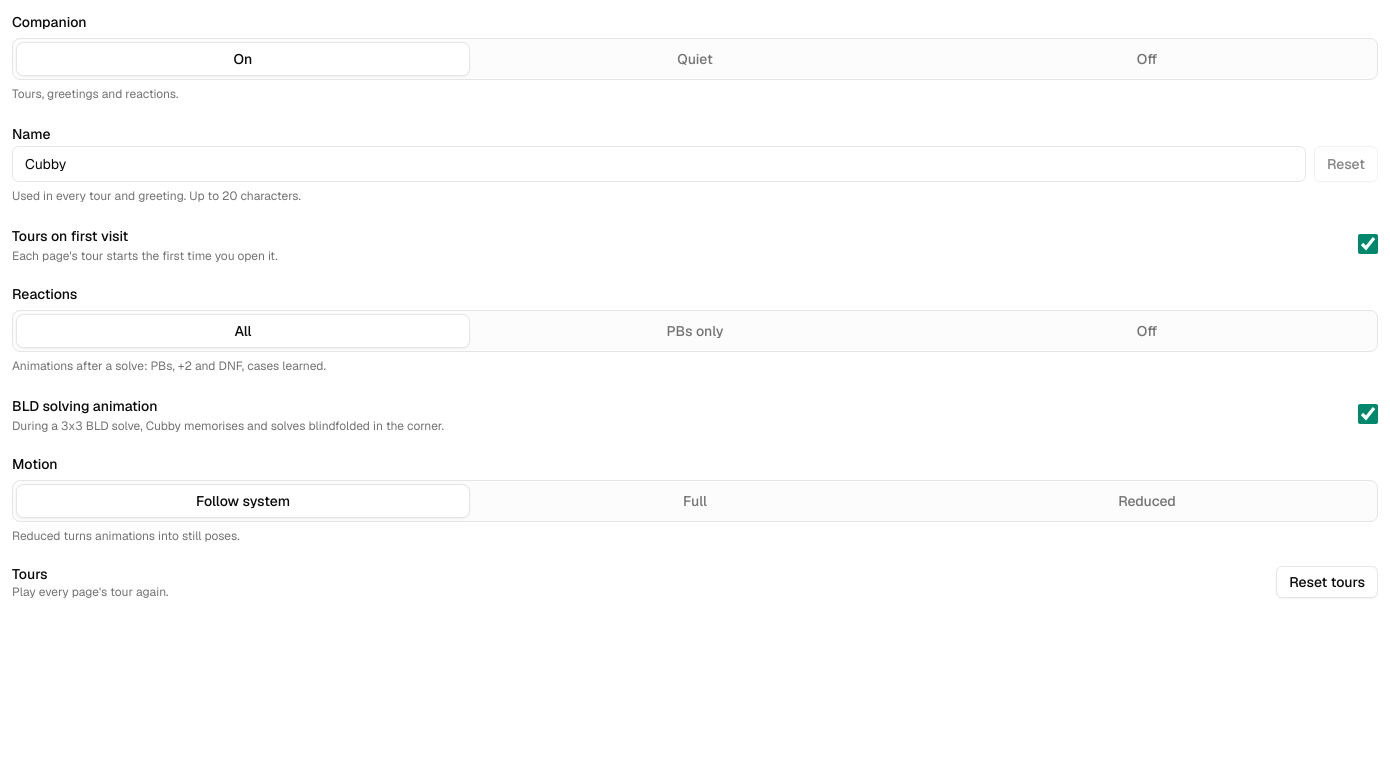
Test case: CompanionSettingsForm › resets tours
The width and height of the screenshot is (1390, 780).
Click the button "Reset tours" at (1327, 582), box [1276,566,1378,598]
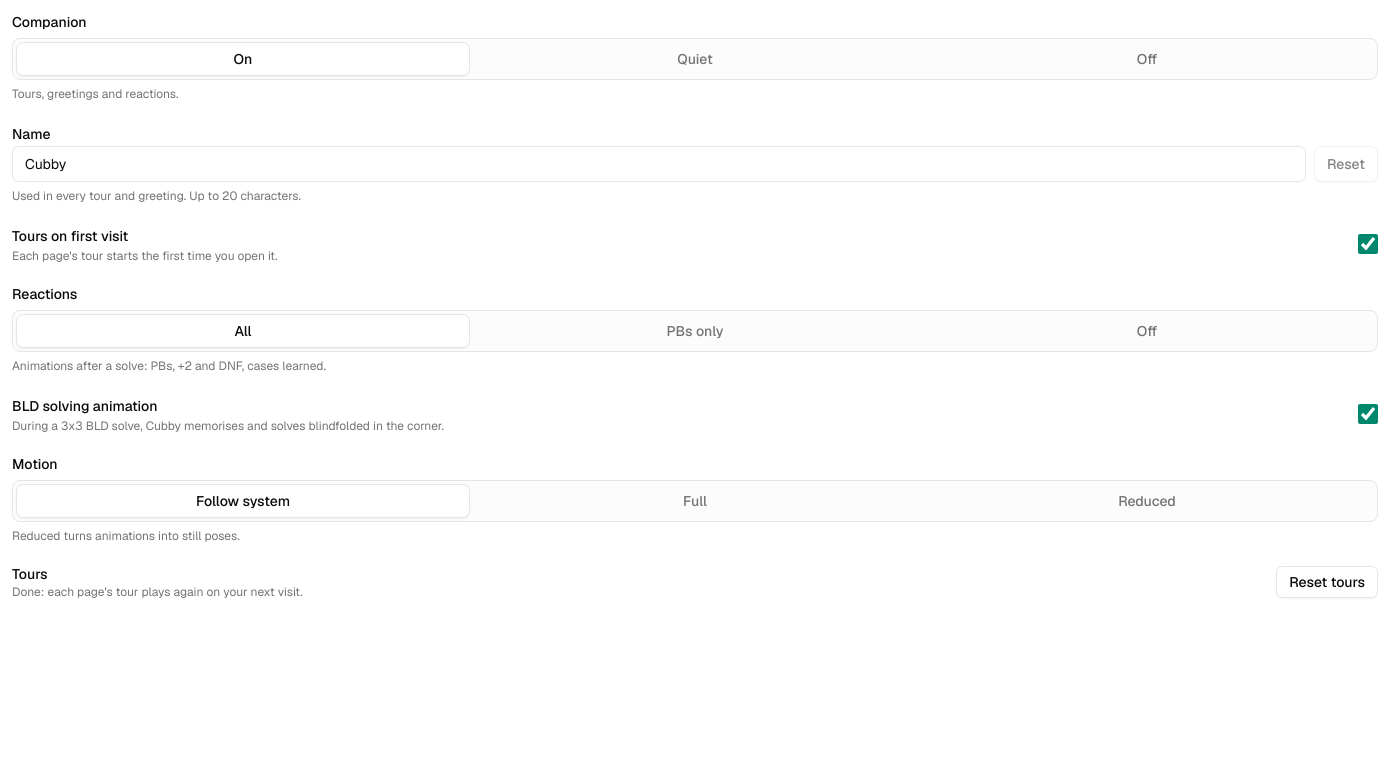
Now the text "Done: each page's tour plays again on your next visit." is shown, box [12,584,303,600]
